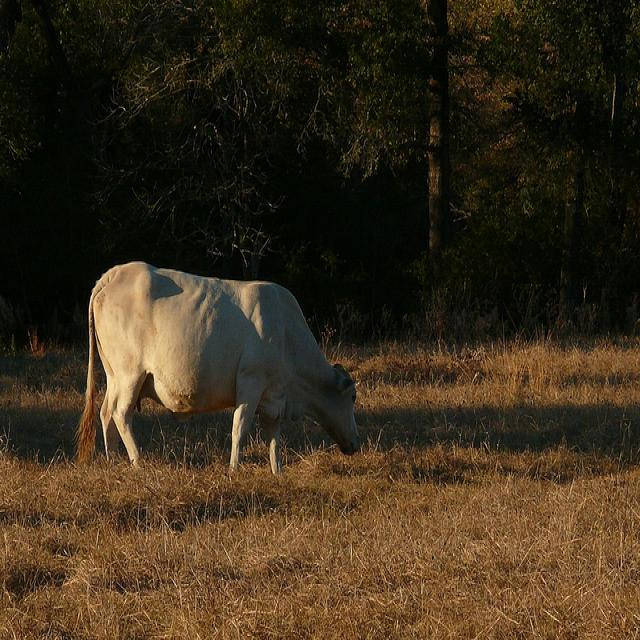cow: (65, 256, 362, 483)
